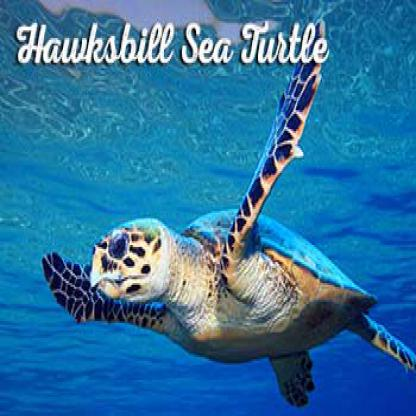turtle: (86, 210, 180, 312)
